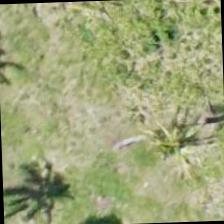Kelapa_Sawit: (124, 91, 218, 184)
